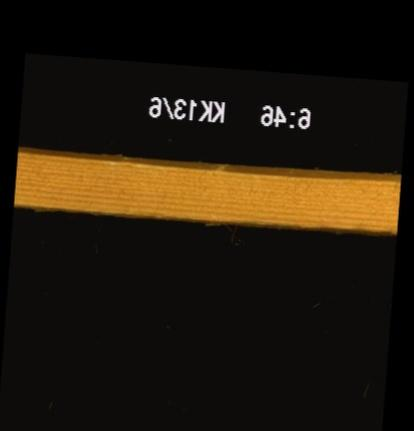wave: (12, 201, 395, 231)
